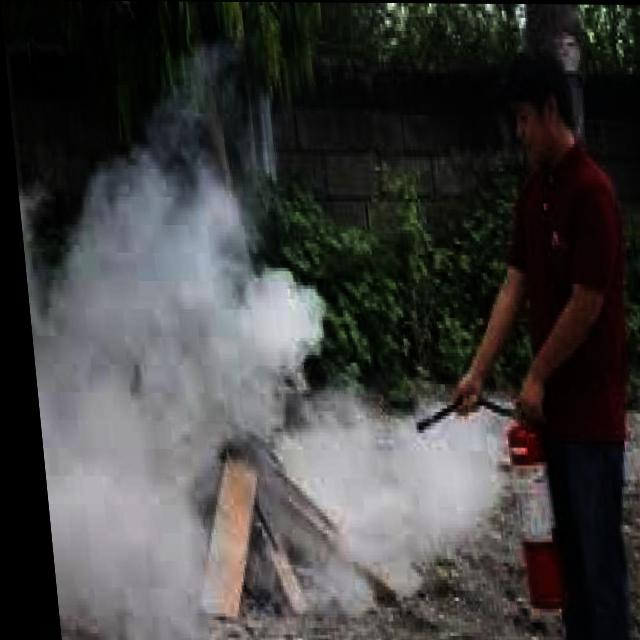Smoke: (3, 35, 358, 635)
